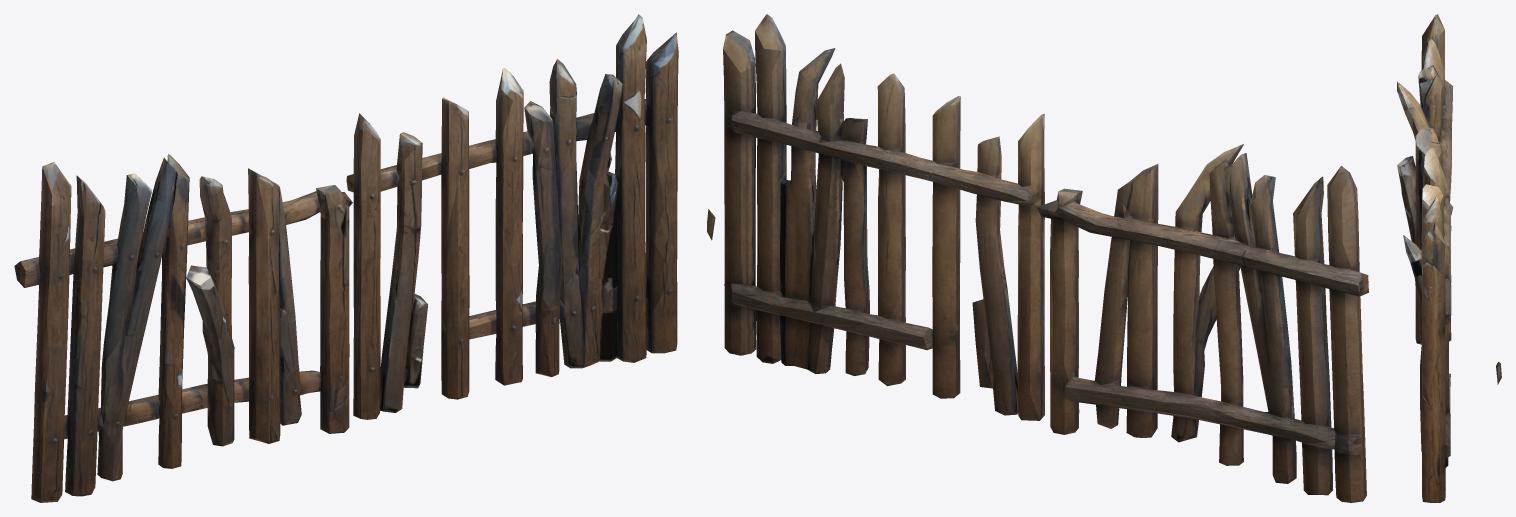
Rendered from zaun.glb.
The picture shows the model from 3 angles, left to right: view 1: azimuth 30°, elevation 25°; view 2: azimuth 150°, elevation 25°; view 3: azimuth 270°, elevation 25°; orthographic projection. The views are drawn at different scales.
Size of the model in its own units: 1.99 by 1.01 by 0.3621.
Materials: 1 (1 with a texture image).
